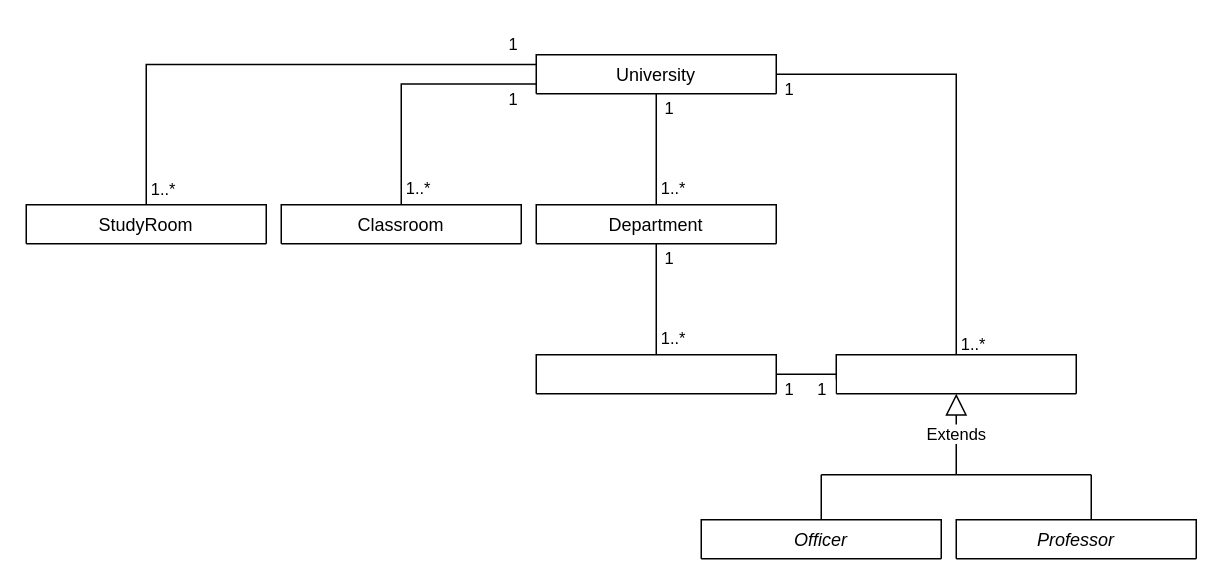
Image size: 1223x585. Some labels were removed from this diagram. Each missing label, with the centre of its shape:
"DepartmentOffice" belongs at (655,373).
"Employee" belongs at (955,373).
